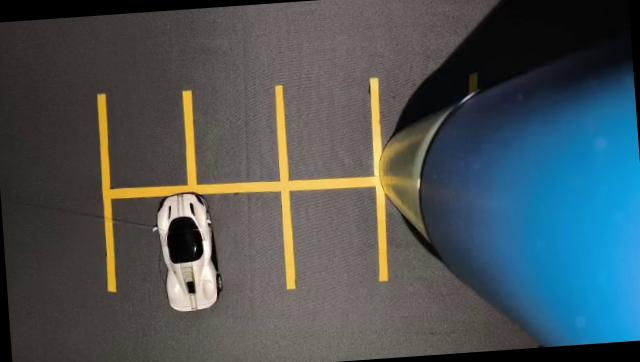toy_car: (133, 168, 237, 330)
